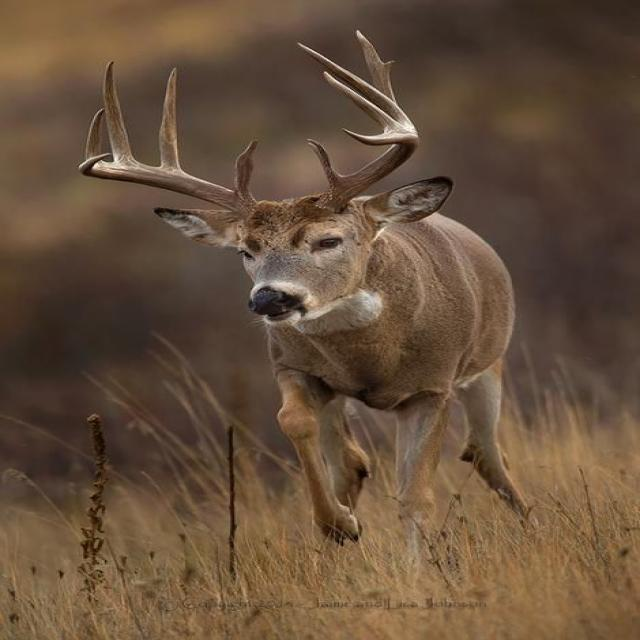L-F: (315, 127, 420, 213)
L-G1: (307, 139, 346, 188)
L-G4: (322, 70, 406, 132)
R-F: (77, 151, 258, 217)
R-G1: (232, 140, 258, 196)
R-G2: (159, 66, 185, 173)
R-G3: (102, 60, 138, 162)
